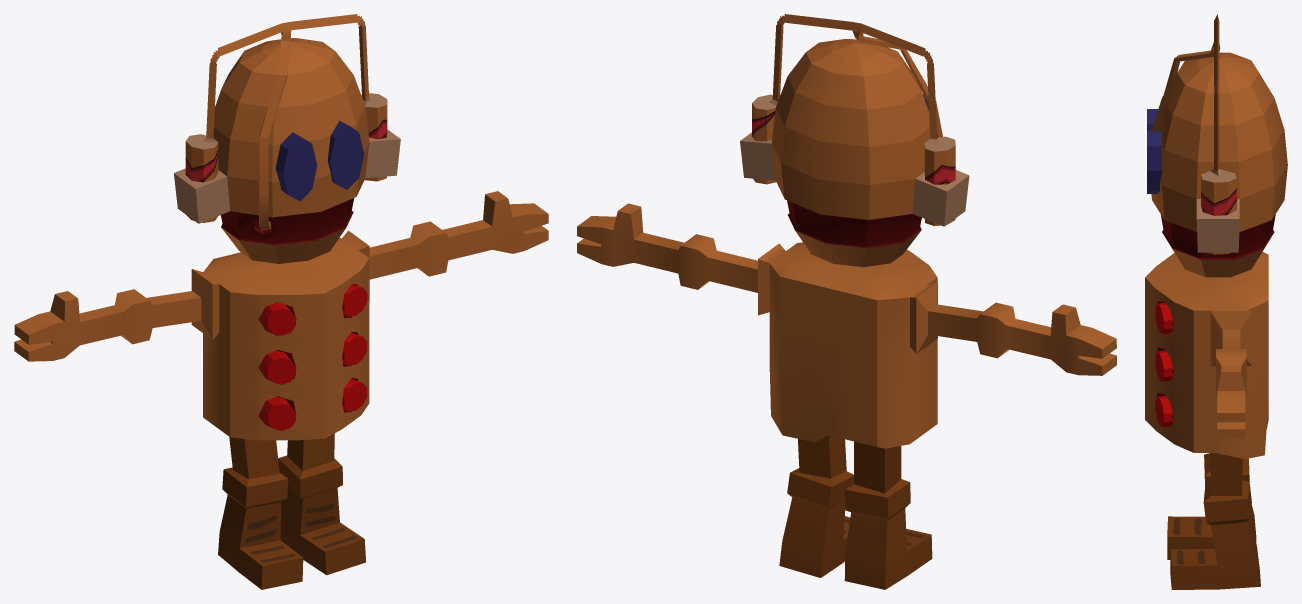
File: M_Full_PistonRobot_OR.fbx
The picture shows the model from 3 angles, left to right: view 1: azimuth 30°, elevation 25°; view 2: azimuth 150°, elevation 25°; view 3: azimuth 270°, elevation 25°; orthographic projection. The views are drawn at different scales.
Parts seen in each view (by area): view 1: Piston_Top_Right; view 2: Piston_Top_Right; view 3: Piston_Top_Right.
Part boxes in pixels (x1,y1,x2,y2): Piston_Top_Right: (14, 14, 548, 589); Piston_Top_Right: (577, 14, 1116, 589); Piston_Top_Right: (1145, 14, 1287, 589).
Size of the model in its own units: 6.5 by 6.44 by 1.58.
Materials: 1 (1 with a texture image).
